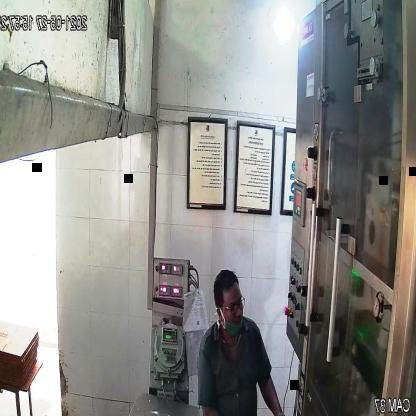goggles: (214, 293, 248, 318)
